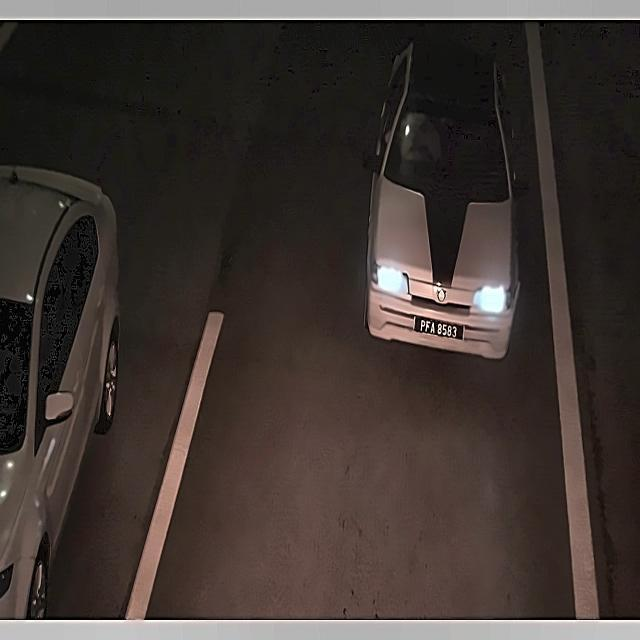car: (406, 314, 469, 350)
